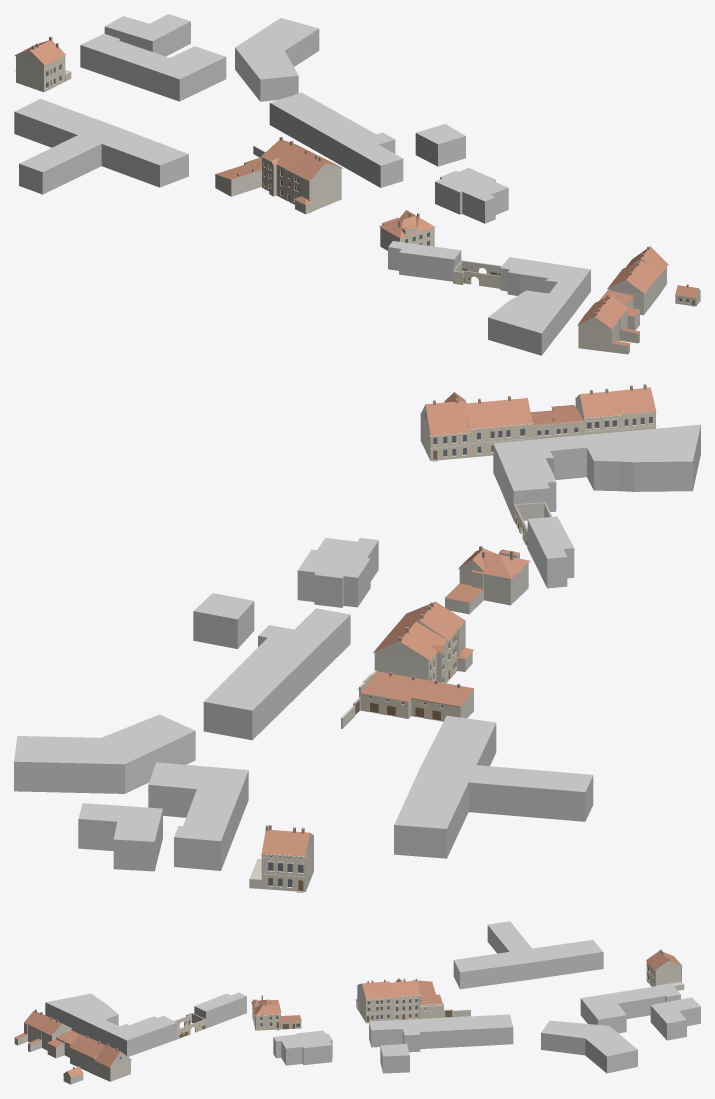
File: u_nahonu_street.glb
3 views of the same model, one above another, from view 1: azimuth 30°, elevation 25°; view 2: azimuth 150°, elevation 25°; view 3: azimuth 270°, elevation 25° (orthographic). The views are drawn at different scales.
Visible parts, largest first — view 1: Context_G2946, Context_G371, Context_G2935, Context_G2936, Context_1697, Context_550, Context_556, Context_230, Context_G1615, Context_838, CP_281_Masonry, CP_988_Masonry (+14 smaller); view 2: Context_G2946, Context_G2935, Context_G371, Context_G2936, Context_550, Context_1697, Context_230, Context_838, Context_556, Context_G1615, CP_286_Roof, Context_G1609 (+19 smaller); view 3: Context_G2946, Context_G2935, Context_G2936, Context_G371, Context_1697, Context_230, Context_556, Context_G1615, Context_550, Context_G1609, Context_455, Context_838 (+17 smaller).
Boxes of the visible parts, bbox=[...] form: Context_G2946: bbox=[14, 98, 188, 194]; Context_G371: bbox=[80, 33, 226, 101]; Context_G2935: bbox=[235, 18, 319, 101]; Context_G2936: bbox=[269, 92, 375, 166]; Context_1697: bbox=[435, 168, 508, 223]; Context_550: bbox=[488, 297, 553, 355]; Context_556: bbox=[343, 132, 403, 187]; Context_230: bbox=[104, 14, 190, 56]; Context_G1615: bbox=[388, 241, 461, 281]; Context_838: bbox=[415, 124, 465, 166]; CP_281_Masonry: bbox=[16, 56, 65, 92]; CP_988_Masonry: bbox=[286, 168, 341, 211]; Context_G2946: bbox=[394, 715, 593, 858]; Context_G2935: bbox=[14, 714, 195, 793]; Context_G371: bbox=[148, 762, 248, 870]; Context_G2936: bbox=[203, 638, 316, 740]; Context_550: bbox=[617, 424, 700, 491]; Context_1697: bbox=[297, 538, 378, 607]; Context_230: bbox=[78, 803, 162, 871]; Context_838: bbox=[193, 593, 254, 648]; Context_556: bbox=[258, 608, 350, 676]; Context_G1615: bbox=[527, 516, 574, 588]; CP_286_Roof: bbox=[361, 671, 473, 706]; Context_G1609: bbox=[580, 429, 648, 490]; Context_G2946: bbox=[453, 921, 603, 989]; Context_G2935: bbox=[541, 1020, 637, 1073]; Context_G2936: bbox=[417, 1014, 513, 1048]; Context_G371: bbox=[580, 983, 680, 1033]; Context_1697: bbox=[273, 1030, 332, 1065]; Context_230: bbox=[650, 997, 700, 1040]; Context_556: bbox=[369, 1019, 420, 1052]; Context_G1615: bbox=[194, 992, 246, 1028]; Context_550: bbox=[45, 993, 111, 1024]; Context_G1609: bbox=[66, 1008, 118, 1038]; Context_455: bbox=[107, 1023, 142, 1056]; Context_838: bbox=[380, 1043, 409, 1073].
Size of the model in its own units: 148 by 16.42 by 293.
